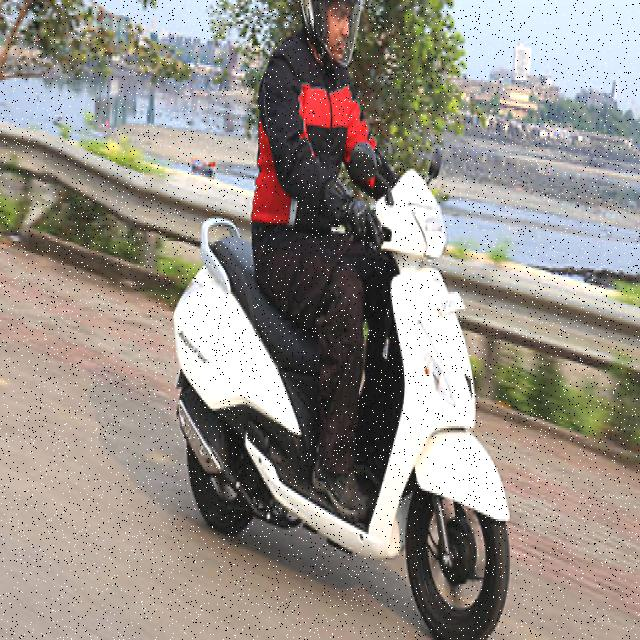not_triplets: (169, 0, 510, 640)
with-helmet: (294, 0, 368, 74)
